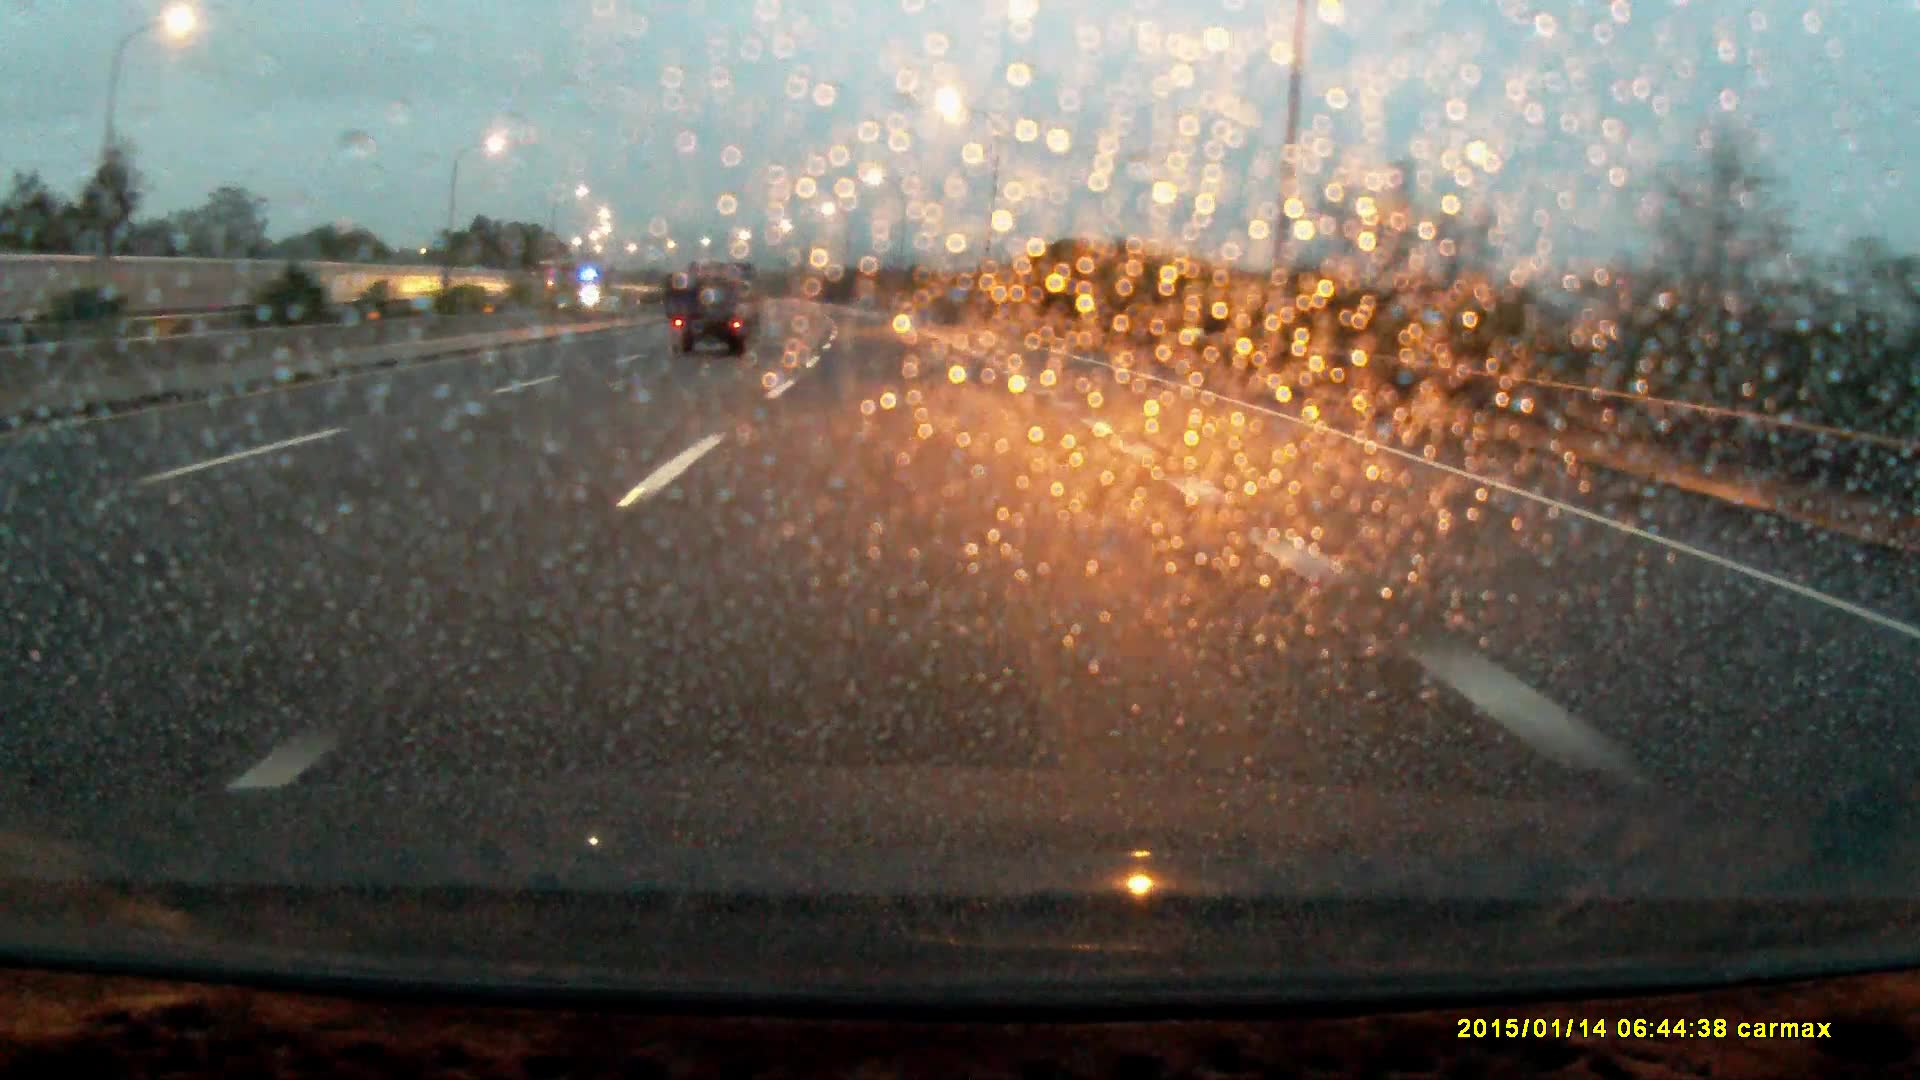vehicle: (673, 265, 761, 361)
